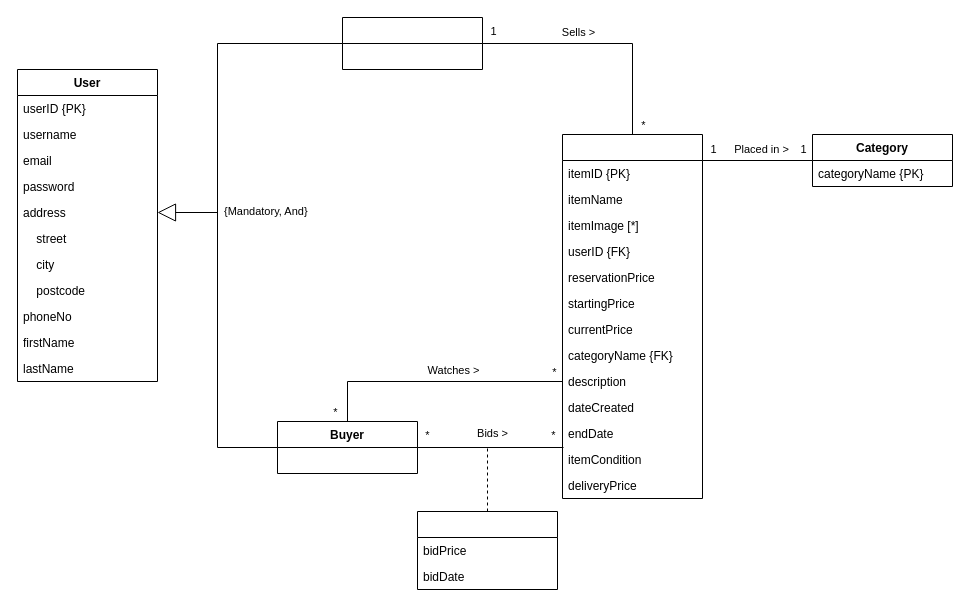
Some shapes in this 970 by 610 pixel diagram are drawn without their labels. The shapes that lost their labels are listed below. From the top down, each one's box as (x1, y1, x2, y2) in pixels, then its label:
(342, 16, 482, 70): Seller
(562, 134, 702, 498): Items
